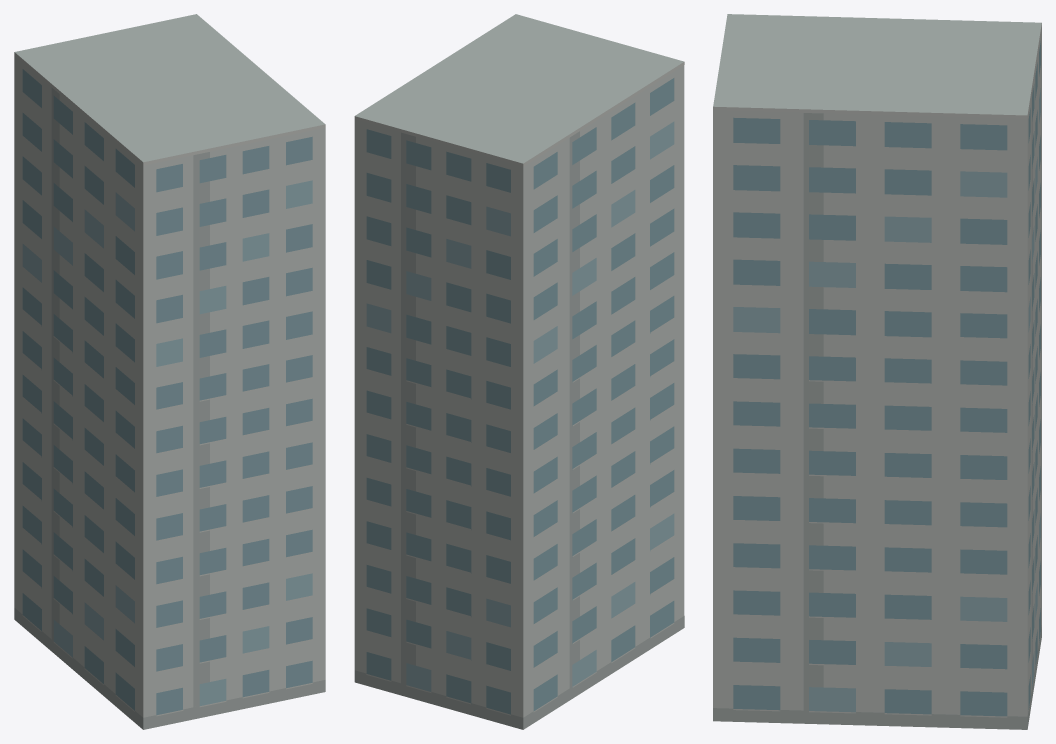
The model's file is residential-6fe85d31-f70d-4613-94ea-832d6bf4d498.glb.
3 renders of one model, left to right at view 1: azimuth 30°, elevation 25°; view 2: azimuth 150°, elevation 25°; view 3: azimuth 270°, elevation 25°, orthographic. The views are drawn at different scales.
Visible parts, largest first — view 1: residential-6fe85d31-f70d-4613-94ea-832d6bf4d498.tmp; view 2: residential-6fe85d31-f70d-4613-94ea-832d6bf4d498.tmp; view 3: residential-6fe85d31-f70d-4613-94ea-832d6bf4d498.tmp.
Part boxes in pixels (x1,y1,x2,y2): residential-6fe85d31-f70d-4613-94ea-832d6bf4d498.tmp: (14, 14, 325, 729); residential-6fe85d31-f70d-4613-94ea-832d6bf4d498.tmp: (354, 14, 684, 729); residential-6fe85d31-f70d-4613-94ea-832d6bf4d498.tmp: (713, 14, 1041, 729).
Size of the model in its own units: 14.53 by 41 by 19.89.
